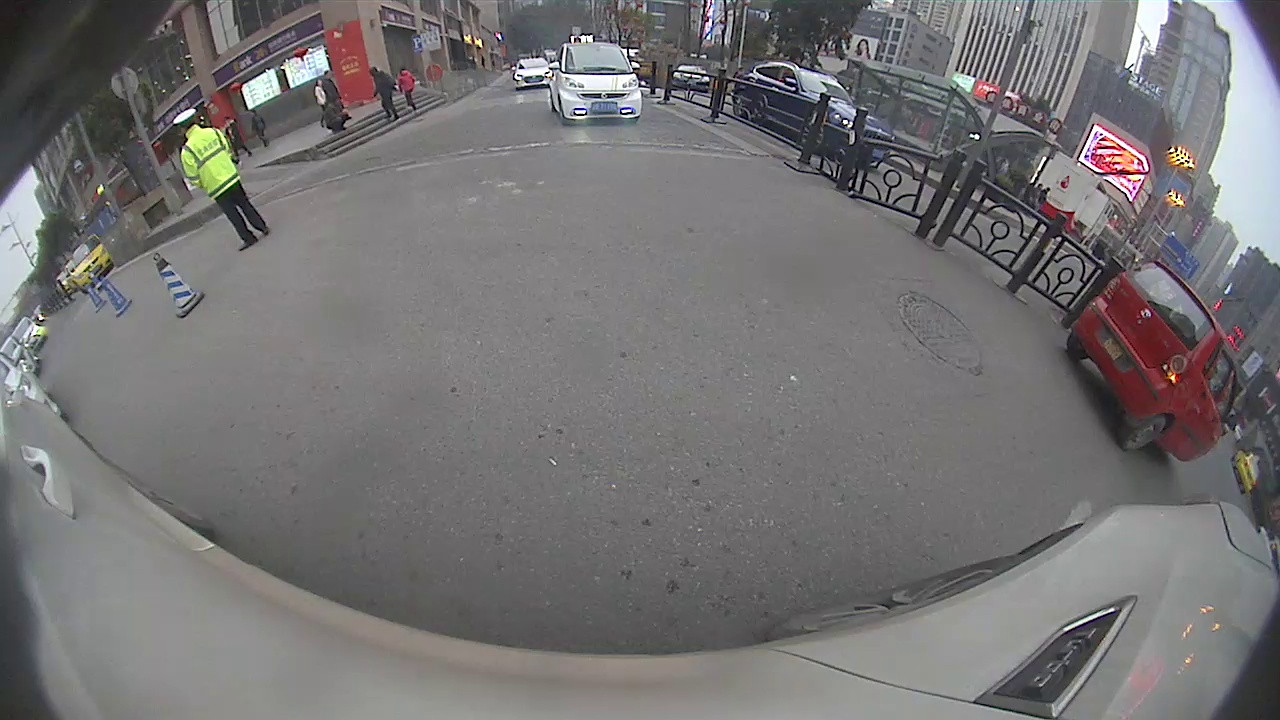car: (1065, 261, 1238, 463), (731, 61, 894, 172), (548, 42, 643, 124), (514, 57, 552, 88)
front: (799, 115, 826, 154)
person: (169, 110, 258, 251), (369, 69, 395, 121), (221, 118, 251, 162), (324, 97, 346, 134), (400, 66, 416, 116)
rear: (1118, 417, 1178, 456)
